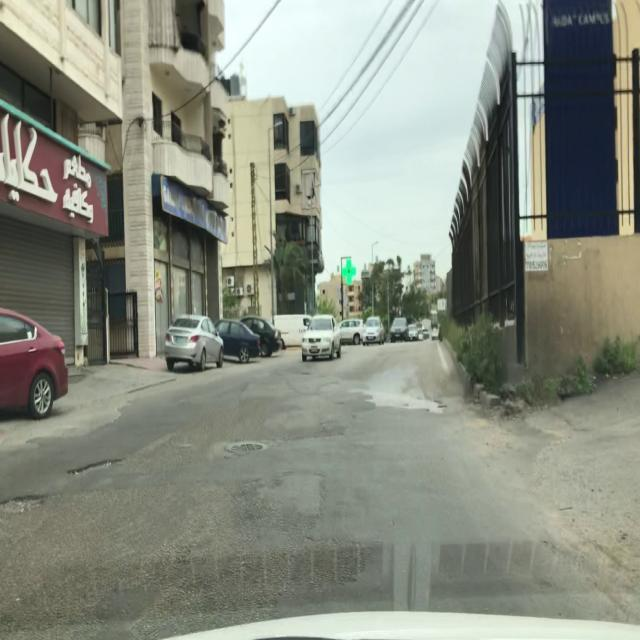pothole: (67, 458, 124, 476), (1, 494, 45, 516), (427, 399, 447, 414)
